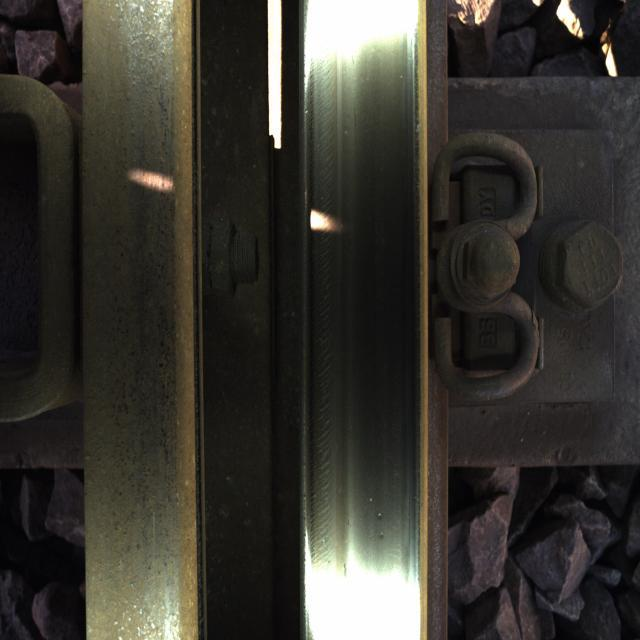break: (321, 54, 411, 620)
